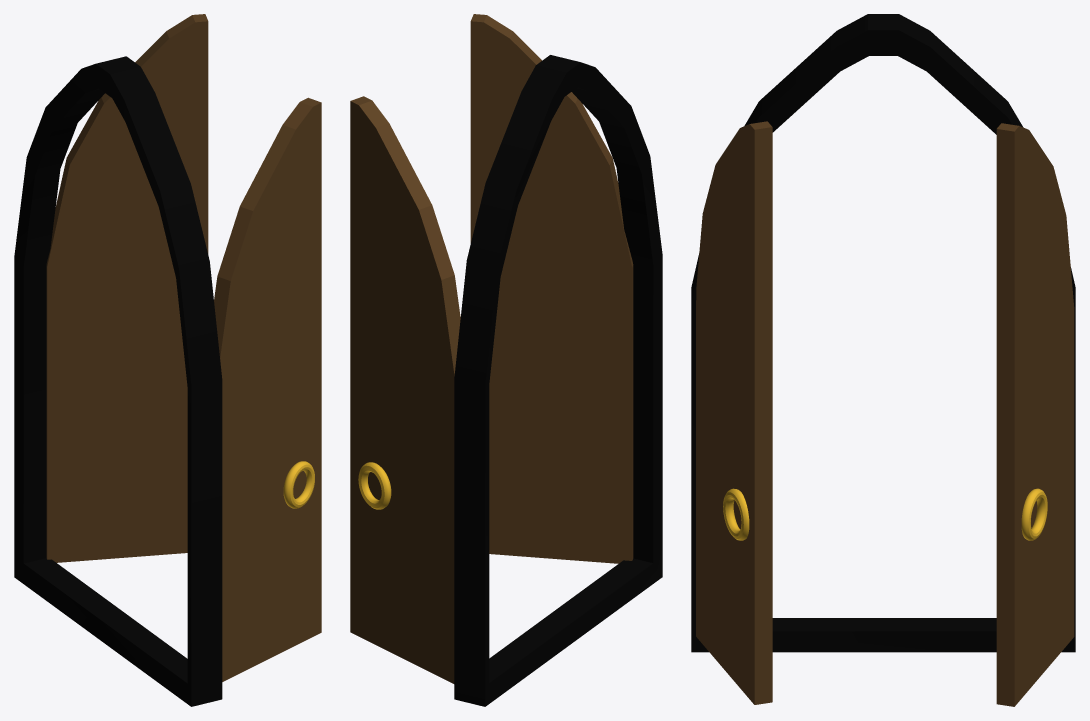
Rendered from doorfullopen.fbx.
3 views of the same model, side by side, from view 1: azimuth 30°, elevation 25°; view 2: azimuth 150°, elevation 25°; view 3: azimuth 270°, elevation 25° (orthographic). The views are drawn at different scales.
Parts seen in each view (by area): view 1: Plane.001; view 2: Plane.001; view 3: Plane.001.
Boxes of the visible parts, box(x1,y1,x2,y2) form: Plane.001: box(14, 14, 321, 706); Plane.001: box(350, 14, 662, 706); Plane.001: box(691, 14, 1075, 706).
Bounding box in the file's own units: 115 × 386 × 216.
